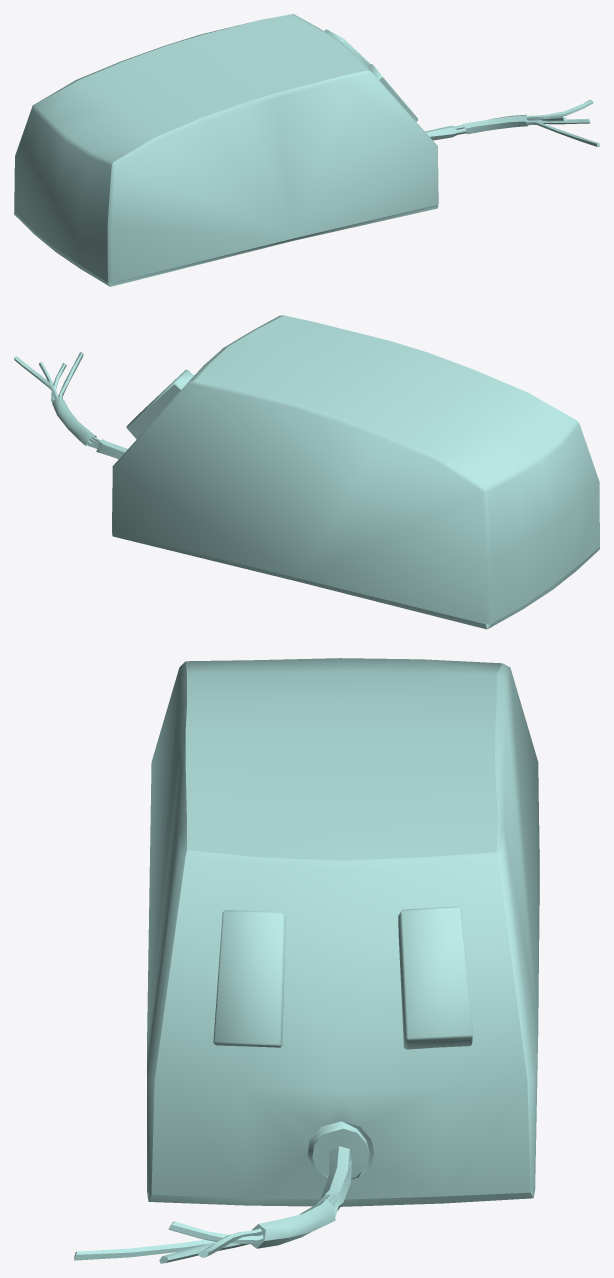
Rendered from pcmouse1.fbx.
3 renders of one model, top to bottom at view 1: azimuth 30°, elevation 25°; view 2: azimuth 150°, elevation 25°; view 3: azimuth 270°, elevation 25°, orthographic. The views are drawn at different scales.
Visible parts, largest first — view 1: mex_mouse_80s_00; view 2: mex_mouse_80s_00; view 3: mex_mouse_80s_00.
Boxes of the visible parts, x1=… form: mex_mouse_80s_00: x1=14, y1=14, x2=599, y2=286; mex_mouse_80s_00: x1=14, y1=315, x2=599, y2=629; mex_mouse_80s_00: x1=74, y1=658, x2=539, y2=1263.
Bounding box in the file's own units: 27.99 × 7.84 × 11.23.
